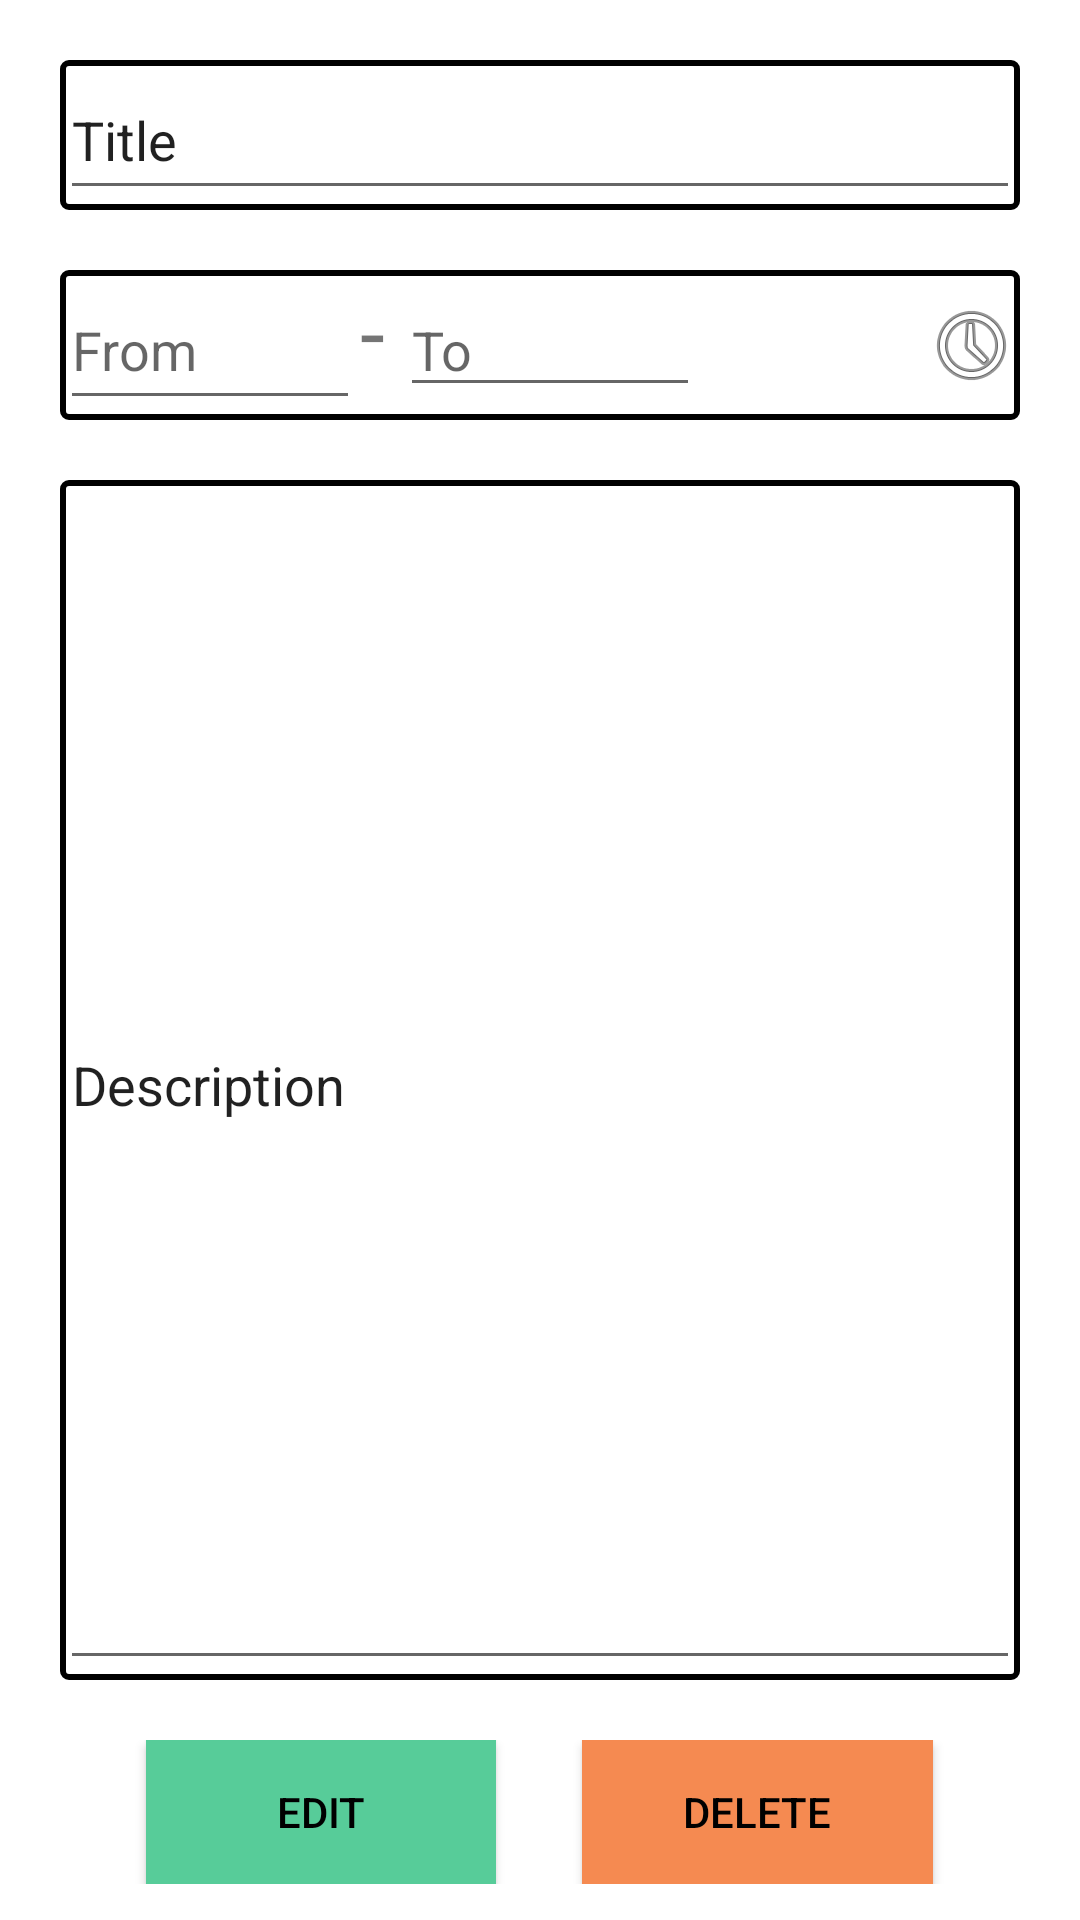

Icon bounding boxes for this 1080 × 1920 phone screenshot, format [x1=x1, y1=y1, x2=x2, y2=y2]:
recent history: [x1=924, y1=270, x2=1020, y2=420]
